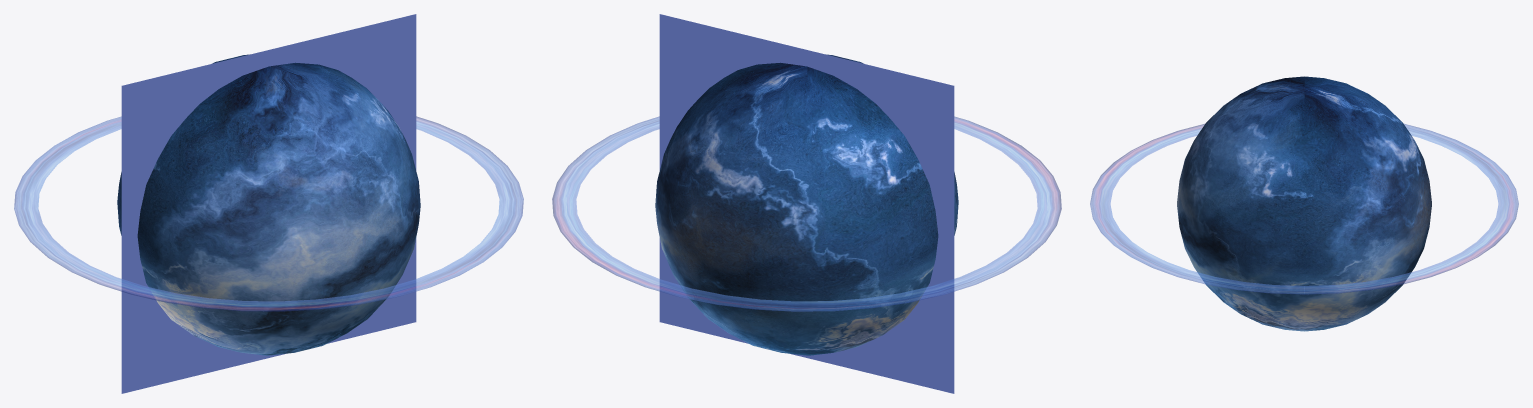
The model's file is planet_v.fbx.
The picture shows the model from 3 angles, left to right: view 1: azimuth 30°, elevation 25°; view 2: azimuth 150°, elevation 25°; view 3: azimuth 270°, elevation 25°; orthographic projection. The views are drawn at different scales.
Visible parts, largest first — view 1: planet_v, planet_v_glow, planet_v_ring_a; view 2: planet_v, planet_v_glow, planet_v_ring_a; view 3: planet_v, planet_v_ring_a.
Part boxes in pixels (x1,y1,x2,y2): planet_v: (117,54,420,355); planet_v_glow: (121,14,416,393); planet_v_ring_a: (14,116,523,311); planet_v: (655,54,958,355); planet_v_glow: (659,14,954,393); planet_v_ring_a: (552,116,1061,311); planet_v: (1177,76,1431,331); planet_v_ring_a: (1090,124,1518,294).
Bounding box in the file's own units: 420 × 280 × 420.
3 materials, 2 textured.
